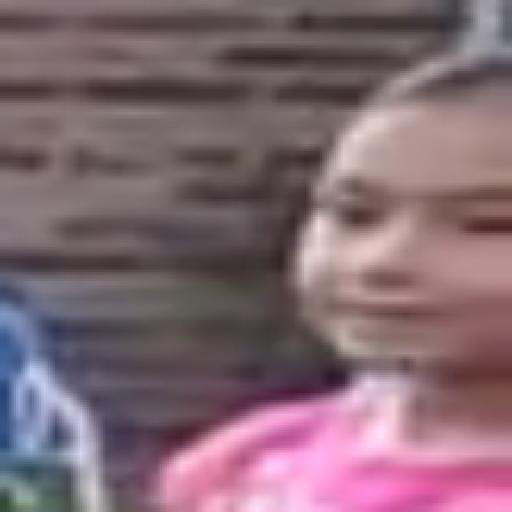Autism: (320, 96, 512, 459)
